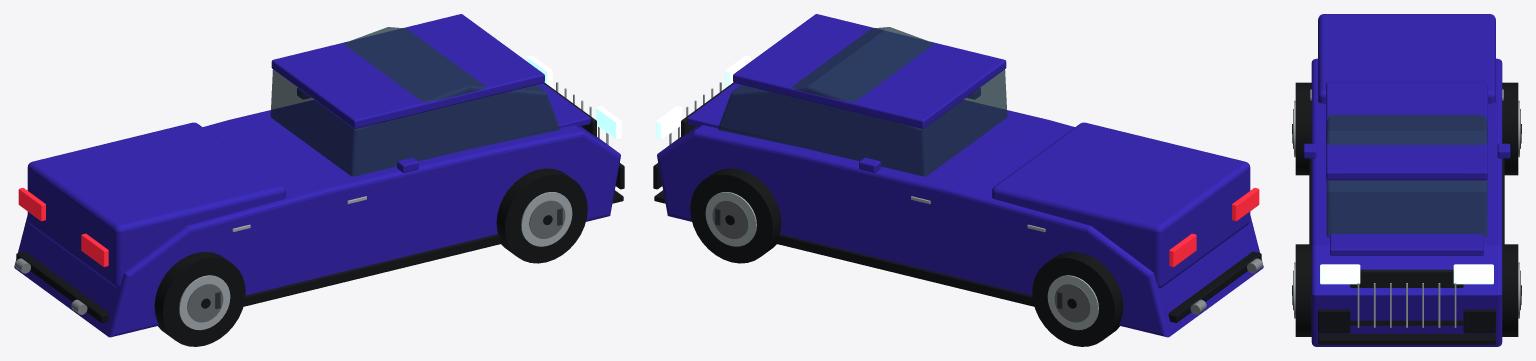
Rendered from ford_f_550_super_duty.glb.
3 renders of one model, left to right at view 1: azimuth 30°, elevation 25°; view 2: azimuth 150°, elevation 25°; view 3: azimuth 270°, elevation 25°, orthographic. The views are drawn at different scales.
Parts seen in each view (by area): view 1: sculpted_body, pickup_bed, cab, cab_roof, hood_center, rear_right_wheel_tire, front_right_wheel_tire, side_skirt_1, rear_diffuser, rear_right_wheel_rim, front_right_wheel_rim, rear_right_wheel_disc (+4 smaller); view 2: sculpted_body, pickup_bed, cab, cab_roof, hood_center, rear_left_wheel_tire, front_left_wheel_tire, side_skirt_-1, rear_diffuser, rear_left_wheel_rim, front_left_wheel_rim, rear_left_wheel_disc (+4 smaller); view 3: cab_roof, sculpted_body, cab, pickup_bed, hood_center, front_grille, front_splitter, front_left_wheel_tire, front_right_wheel_tire, rear_left_wheel_tire, rear_right_wheel_tire, headlight_left (+7 smaller).
Part boxes in pixels (x1,y1,x2,y2): sculpted_body: (14,100,620,337); pickup_bed: (27,122,285,287); cab: (270,27,559,176); cab_roof: (271,14,544,128); hood_center: (399,83,590,151); rear_right_wheel_tire: (154,252,245,346); front_right_wheel_tire: (496,168,587,263); side_skirt_1: (243,234,502,306); rear_diffuser: (16,251,109,322); rear_right_wheel_rim: (179,275,230,330); front_right_wheel_rim: (521,192,572,246); rear_right_wheel_disc: (187,284,223,322); sculpted_body: (657,100,1263,337); pickup_bed: (992,122,1250,287); cab: (718,27,1007,176); cab_roof: (733,14,1006,128); hood_center: (687,83,878,151); rear_left_wheel_tire: (1032,252,1123,346); front_left_wheel_tire: (690,168,781,263); side_skirt_-1: (775,234,1034,306); rear_diffuser: (1168,251,1261,322); rear_left_wheel_rim: (1047,275,1098,330); front_left_wheel_rim: (705,192,756,246); rear_left_wheel_disc: (1054,284,1090,322); cab_roof: (1326,82,1487,180); sculpted_body: (1311,58,1502,346); cab: (1326,115,1487,237); pickup_bed: (1318,14,1495,103); hood_center: (1330,181,1483,255); front_grille: (1350,269,1463,325); front_splitter: (1318,334,1495,344); front_left_wheel_tire: (1502,244,1518,336); front_right_wheel_tire: (1295,244,1311,336); rear_left_wheel_tire: (1502,82,1518,175); rear_right_wheel_tire: (1295,82,1311,175); headlight_left: (1453,264,1493,284).
Bounding box in the file's own units: 6.08 × 1.94 × 2.33.
